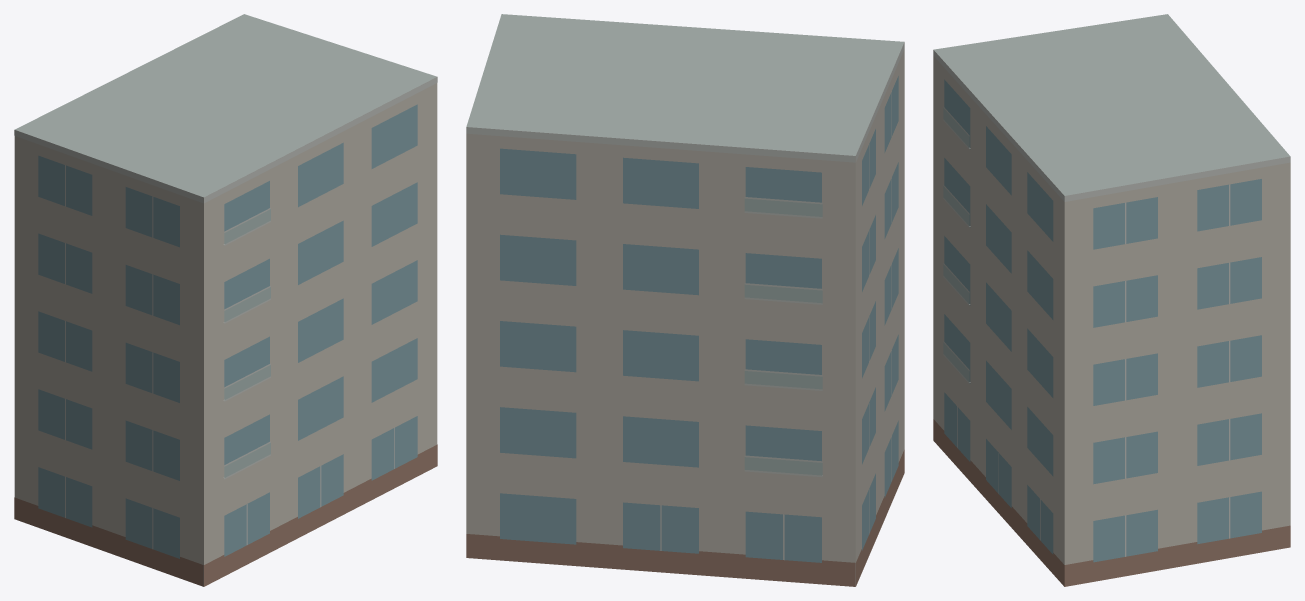
Rendered from survey-upis-32859549.glb.
3 views of the same model, side by side, from view 1: azimuth 30°, elevation 25°; view 2: azimuth 150°, elevation 25°; view 3: azimuth 270°, elevation 25° (orthographic). The views are drawn at different scales.
Parts seen in each view (by area): view 1: survey-upis-32859549.tmp; view 2: survey-upis-32859549.tmp; view 3: survey-upis-32859549.tmp.
Boxes of the visible parts, left/top/right/bottom form: survey-upis-32859549.tmp: left=14, top=14, right=437, bottom=586; survey-upis-32859549.tmp: left=466, top=14, right=904, bottom=586; survey-upis-32859549.tmp: left=933, top=14, right=1290, bottom=586.
Size of the model in its own units: 15.72 by 15.74 by 13.05.
